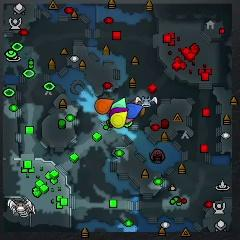p1: (126, 104, 142, 120)
p2: (111, 98, 126, 108)
p3: (109, 107, 128, 113)
p4: (111, 111, 128, 128)
p5: (95, 99, 114, 115)
x1: (125, 117, 133, 124)
x5: (131, 97, 145, 116)
